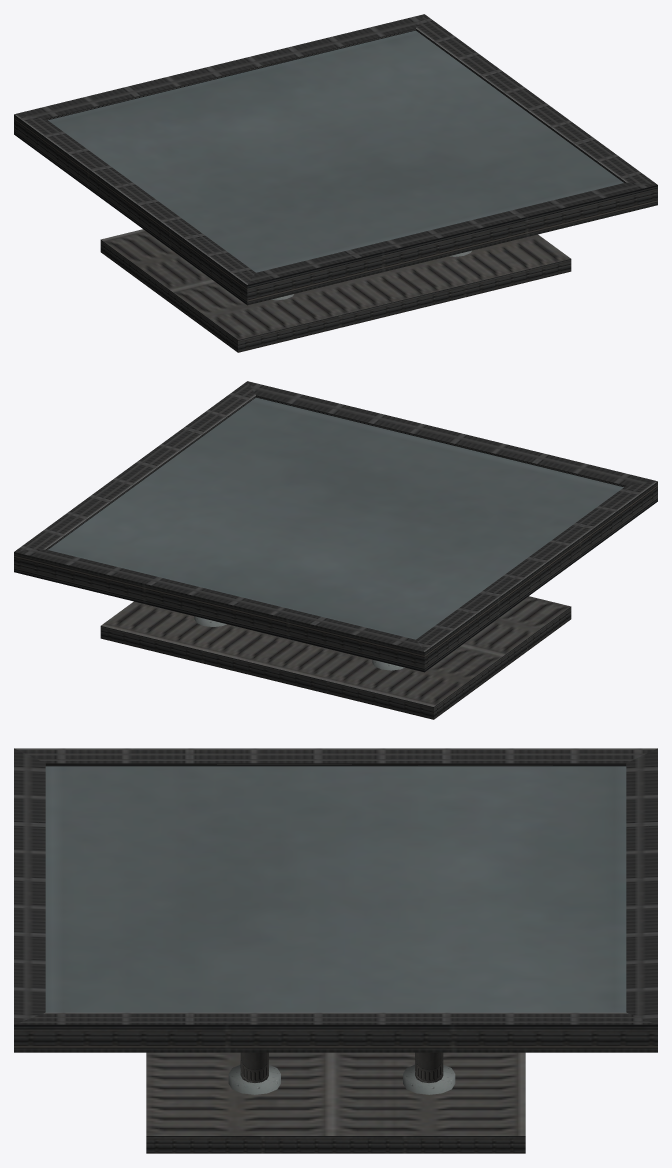
Rendered from mesa1.fbx.
3 renders of one model, top to bottom at view 1: azimuth 30°, elevation 25°; view 2: azimuth 150°, elevation 25°; view 3: azimuth 270°, elevation 25°, orthographic. The views are drawn at different scales.
Parts seen in each view (by area): view 1: Cylinder; view 2: Cylinder; view 3: Cylinder.
Boxes of the visible parts, left/top/right/bottom form: Cylinder: left=14, top=14, right=657, bottom=352; Cylinder: left=14, top=381, right=657, bottom=719; Cylinder: left=14, top=748, right=657, bottom=1153.
Size of the model in its own units: 3.51 by 0.9175 by 3.46.
